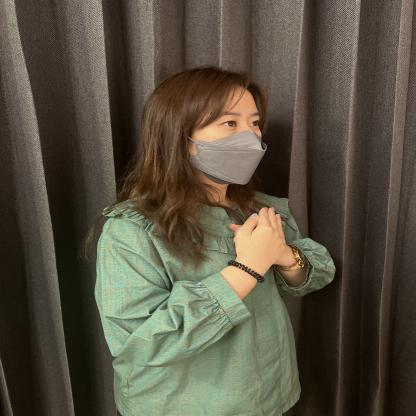Grieve: (119, 185, 350, 307)
